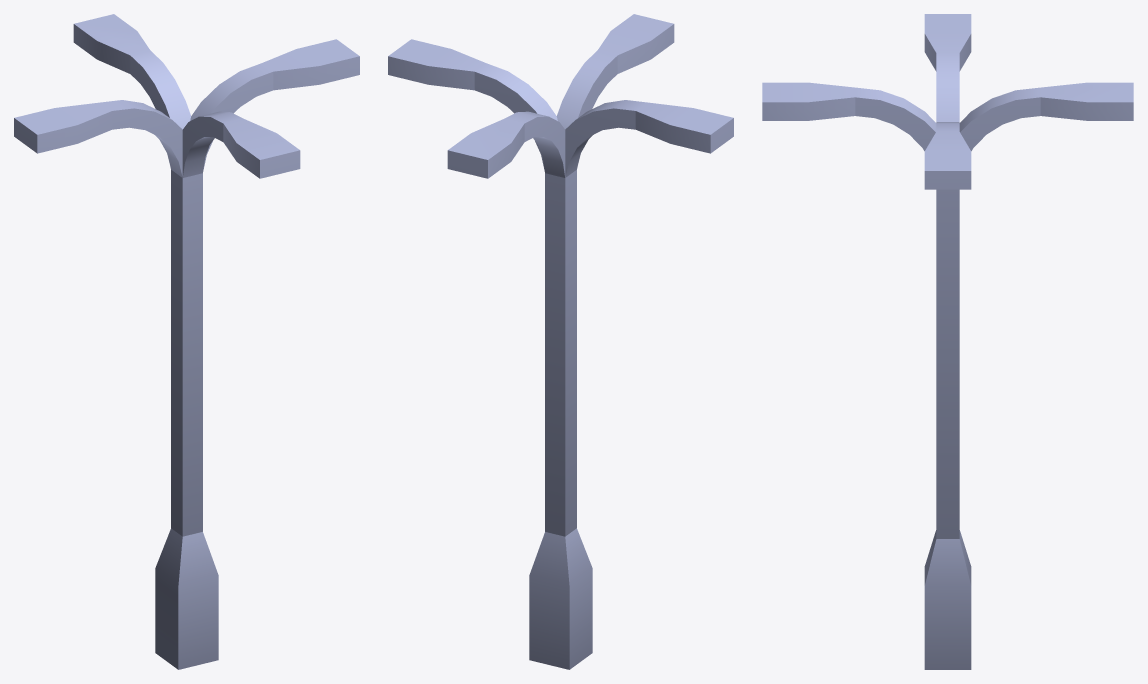
The model's file is light-curved-cross.glb.
3 views of the same model, side by side, from view 1: azimuth 30°, elevation 25°; view 2: azimuth 150°, elevation 25°; view 3: azimuth 270°, elevation 25° (orthographic).
Visible parts, largest first — view 1: light-curved-cross; view 2: light-curved-cross; view 3: light-curved-cross.
Part boxes in pixels (x1,y1,x2,y2): light-curved-cross: (14, 14, 359, 669); light-curved-cross: (388, 14, 733, 669); light-curved-cross: (762, 14, 1133, 669).
Bounding box in the file's own units: 0.4 × 0.675 × 0.4.
Materials: 1 (1 with a texture image).
